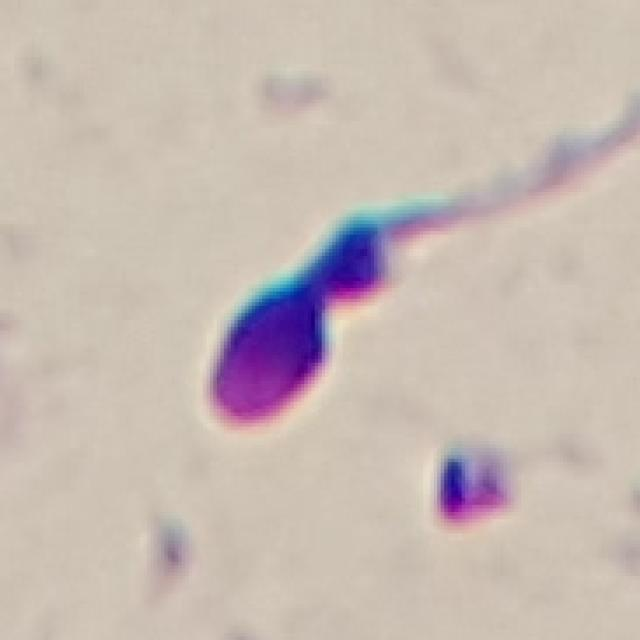abnormal sperm: (211, 182, 517, 426)
